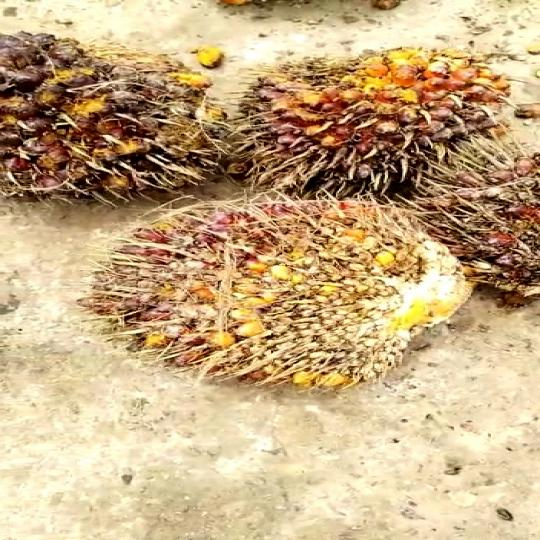masak: (99, 194, 505, 406), (0, 19, 247, 229), (219, 43, 517, 202)
